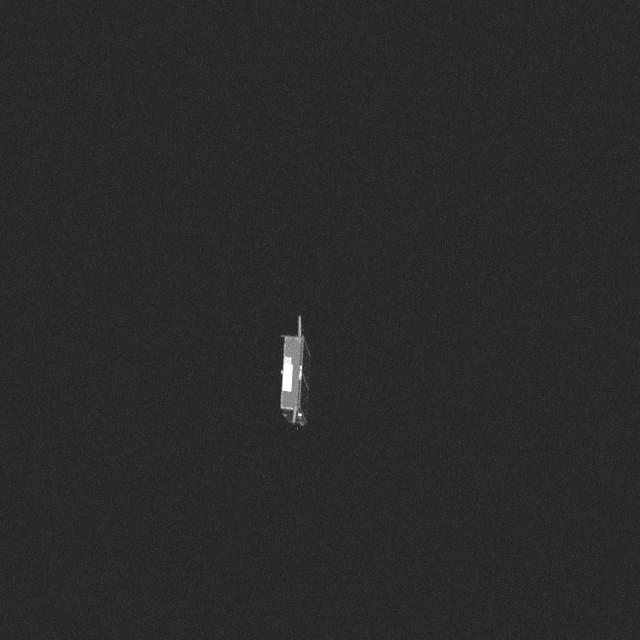satellite: (264, 314, 316, 428)
